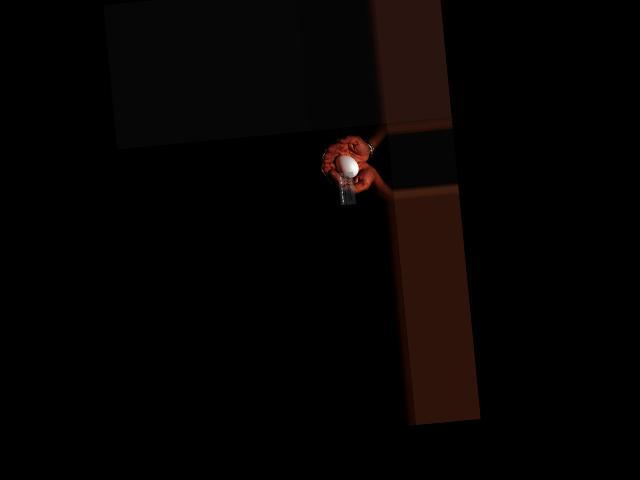egg: (334, 153, 359, 178)
